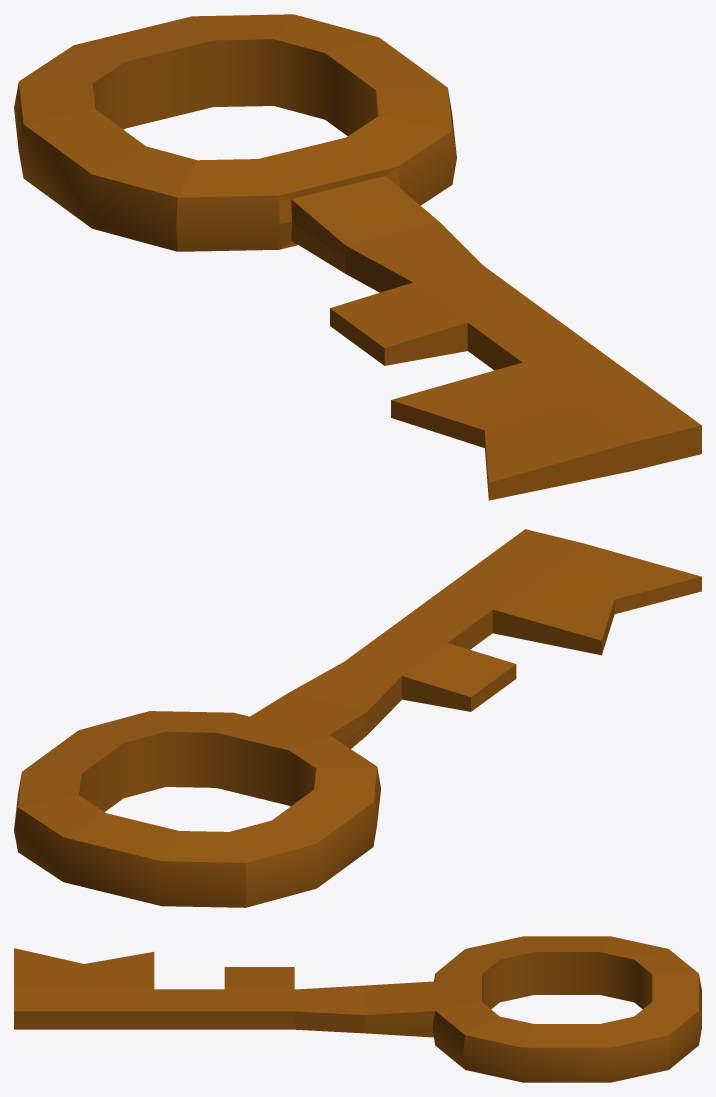
Rendered from Key.fbx.
The picture shows the model from 3 angles, top to bottom: view 1: azimuth 30°, elevation 25°; view 2: azimuth 150°, elevation 25°; view 3: azimuth 270°, elevation 25°; orthographic projection. The views are drawn at different scales.
Visible parts, largest first — view 1: Key; view 2: Key; view 3: Key.
Part boxes in pixels (x1=…): Key: x1=14, y1=14, x2=701, y2=500; Key: x1=14, y1=529, x2=701, y2=907; Key: x1=14, y1=936, x2=701, y2=1082.
Bounding box in the file's own units: 0.7215 × 0.1264 × 1.84.
